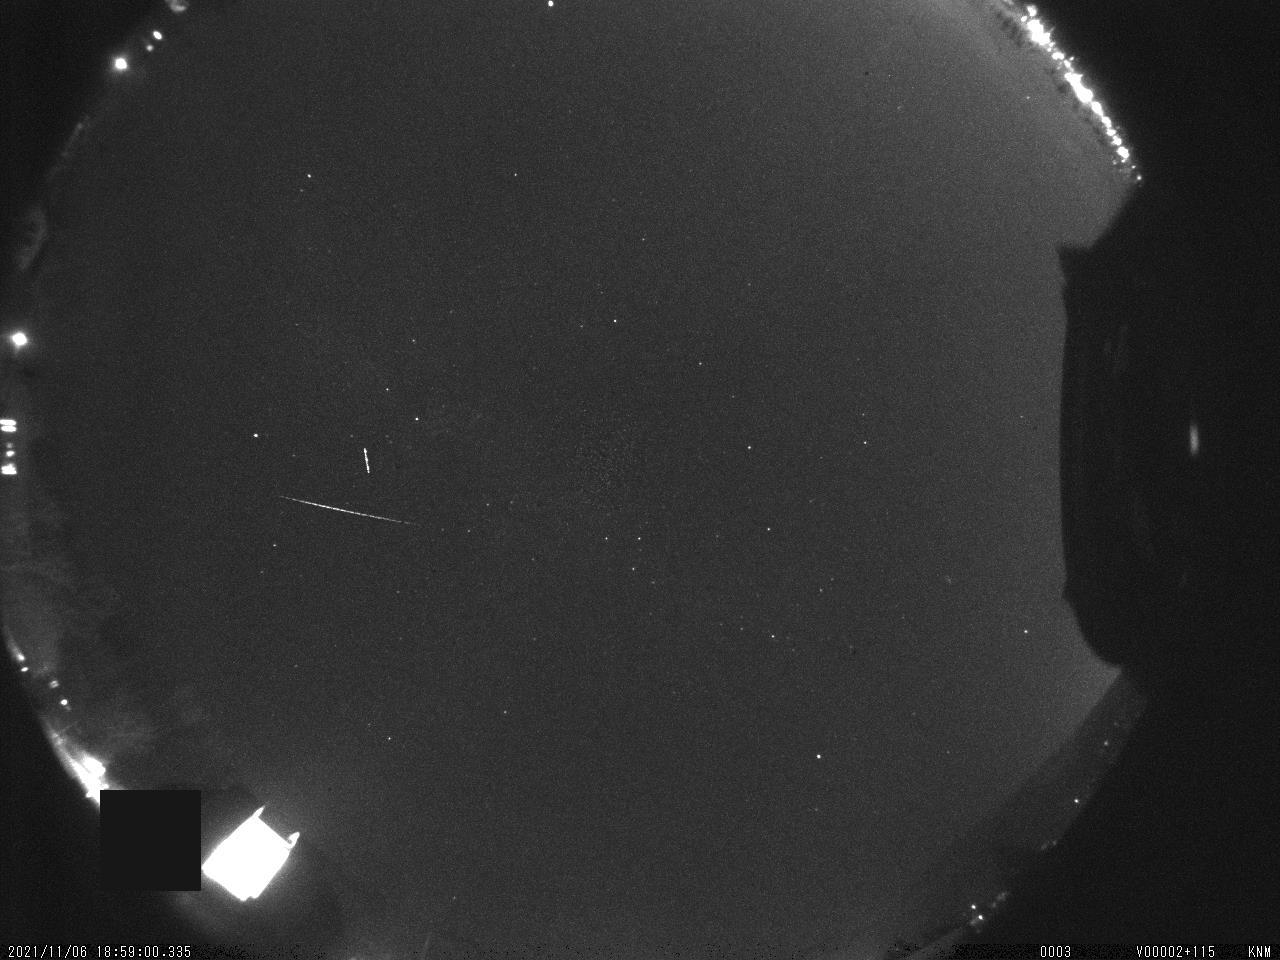meteor: (263, 487, 437, 542)
